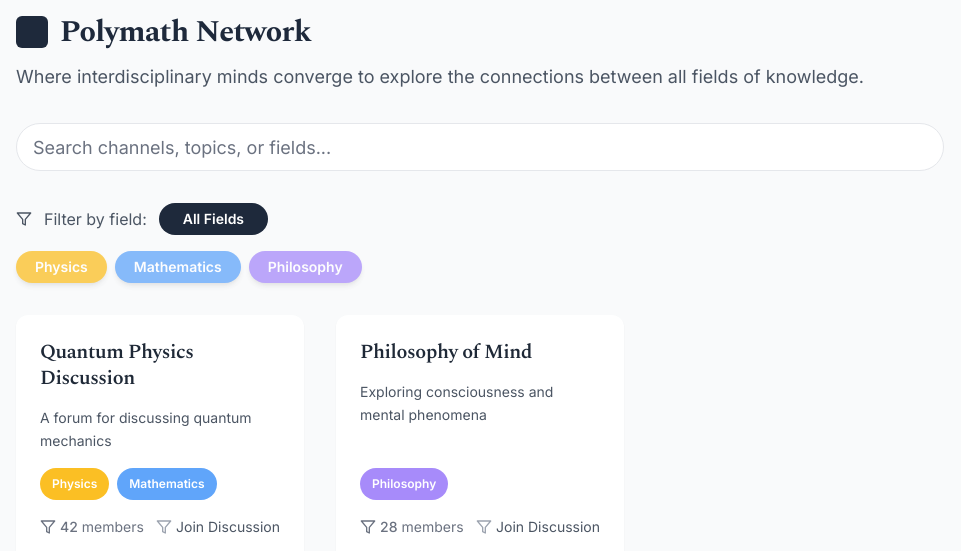
Dashboard › clears tag filters when All Fields is clicked
Note: Click Physics tag filter button (first occurrence)
Click the button "Physics" below "Filter by field:" at (61, 267), box [16, 251, 107, 283]
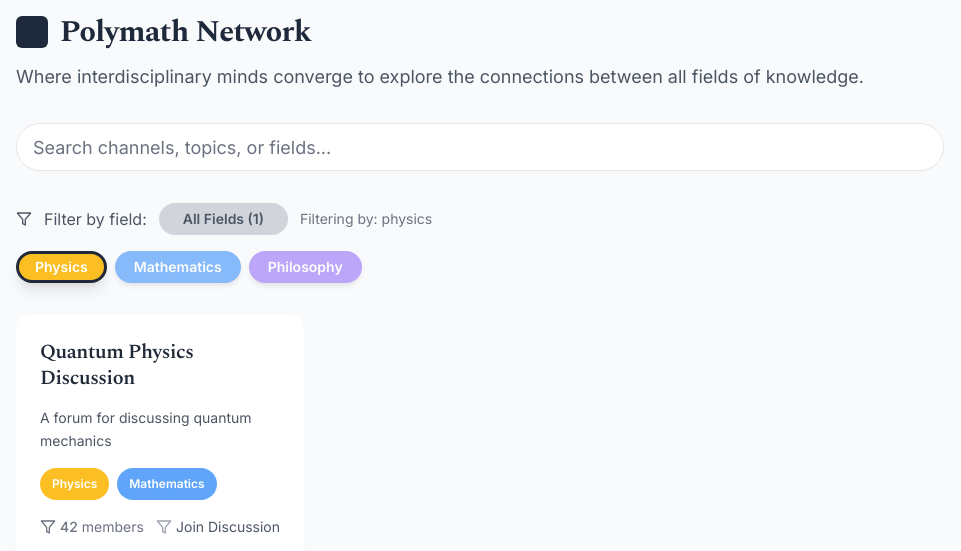
Expected: the heading "Quantum Physics Discussion" is shown, [40, 337, 194, 393]
Expected: the link "Philosophy of Mind" is gone
Click the button "All Fields (1)" at (223, 219), box [159, 203, 288, 235]
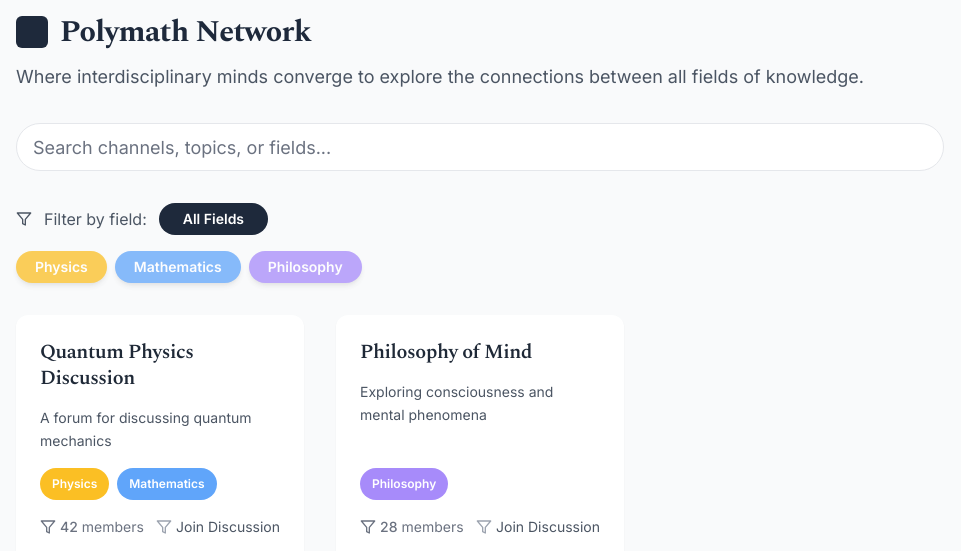
Expected: the heading "Quantum Physics Discussion" is shown, [40, 337, 194, 393]
Expected: the heading "Philosophy of Mind" is shown, [360, 337, 532, 367]
